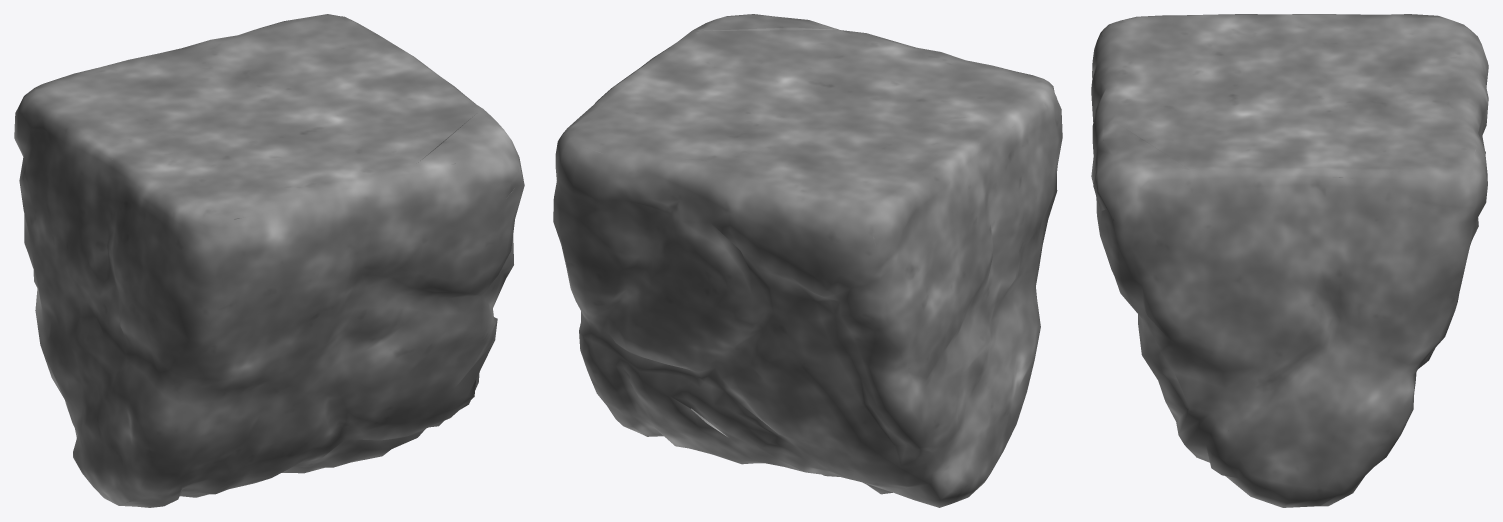
The model's file is Main Rock 12.fbx.
The picture shows the model from 3 angles, left to right: view 1: azimuth 30°, elevation 25°; view 2: azimuth 150°, elevation 25°; view 3: azimuth 270°, elevation 25°; orthographic projection.
Parts seen in each view (by area): view 1: Main rock 12; view 2: Main rock 12; view 3: Main rock 12.
Part boxes in pixels (left/top/right/bottom): Main rock 12: left=14, top=14, right=524, bottom=507; Main rock 12: left=553, top=14, right=1062, bottom=507; Main rock 12: left=1091, top=14, right=1488, bottom=507.
Bounding box in the file's own units: 197 × 185 × 186.
